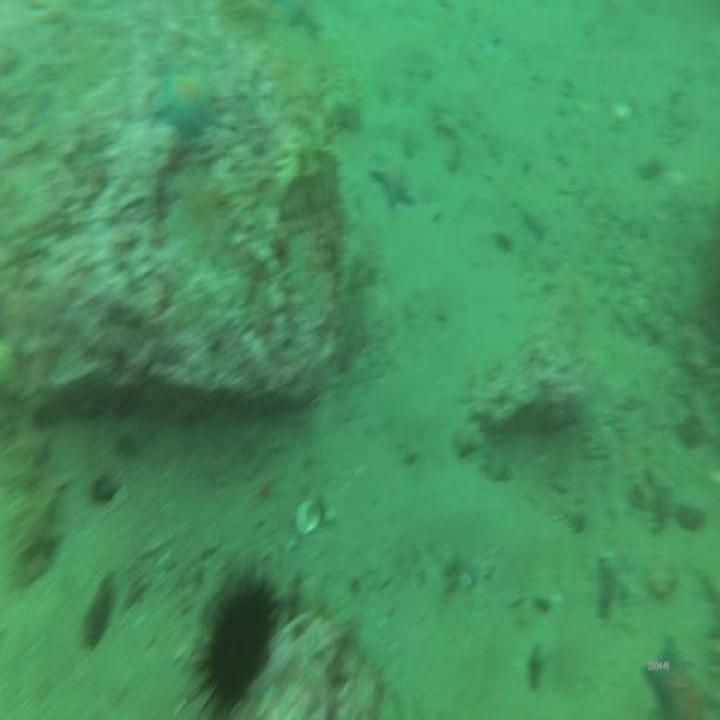echinus: (205, 590, 270, 704)
holothurian: (5, 411, 60, 576)
starfish: (642, 634, 720, 720), (152, 64, 215, 137), (368, 153, 415, 210)
